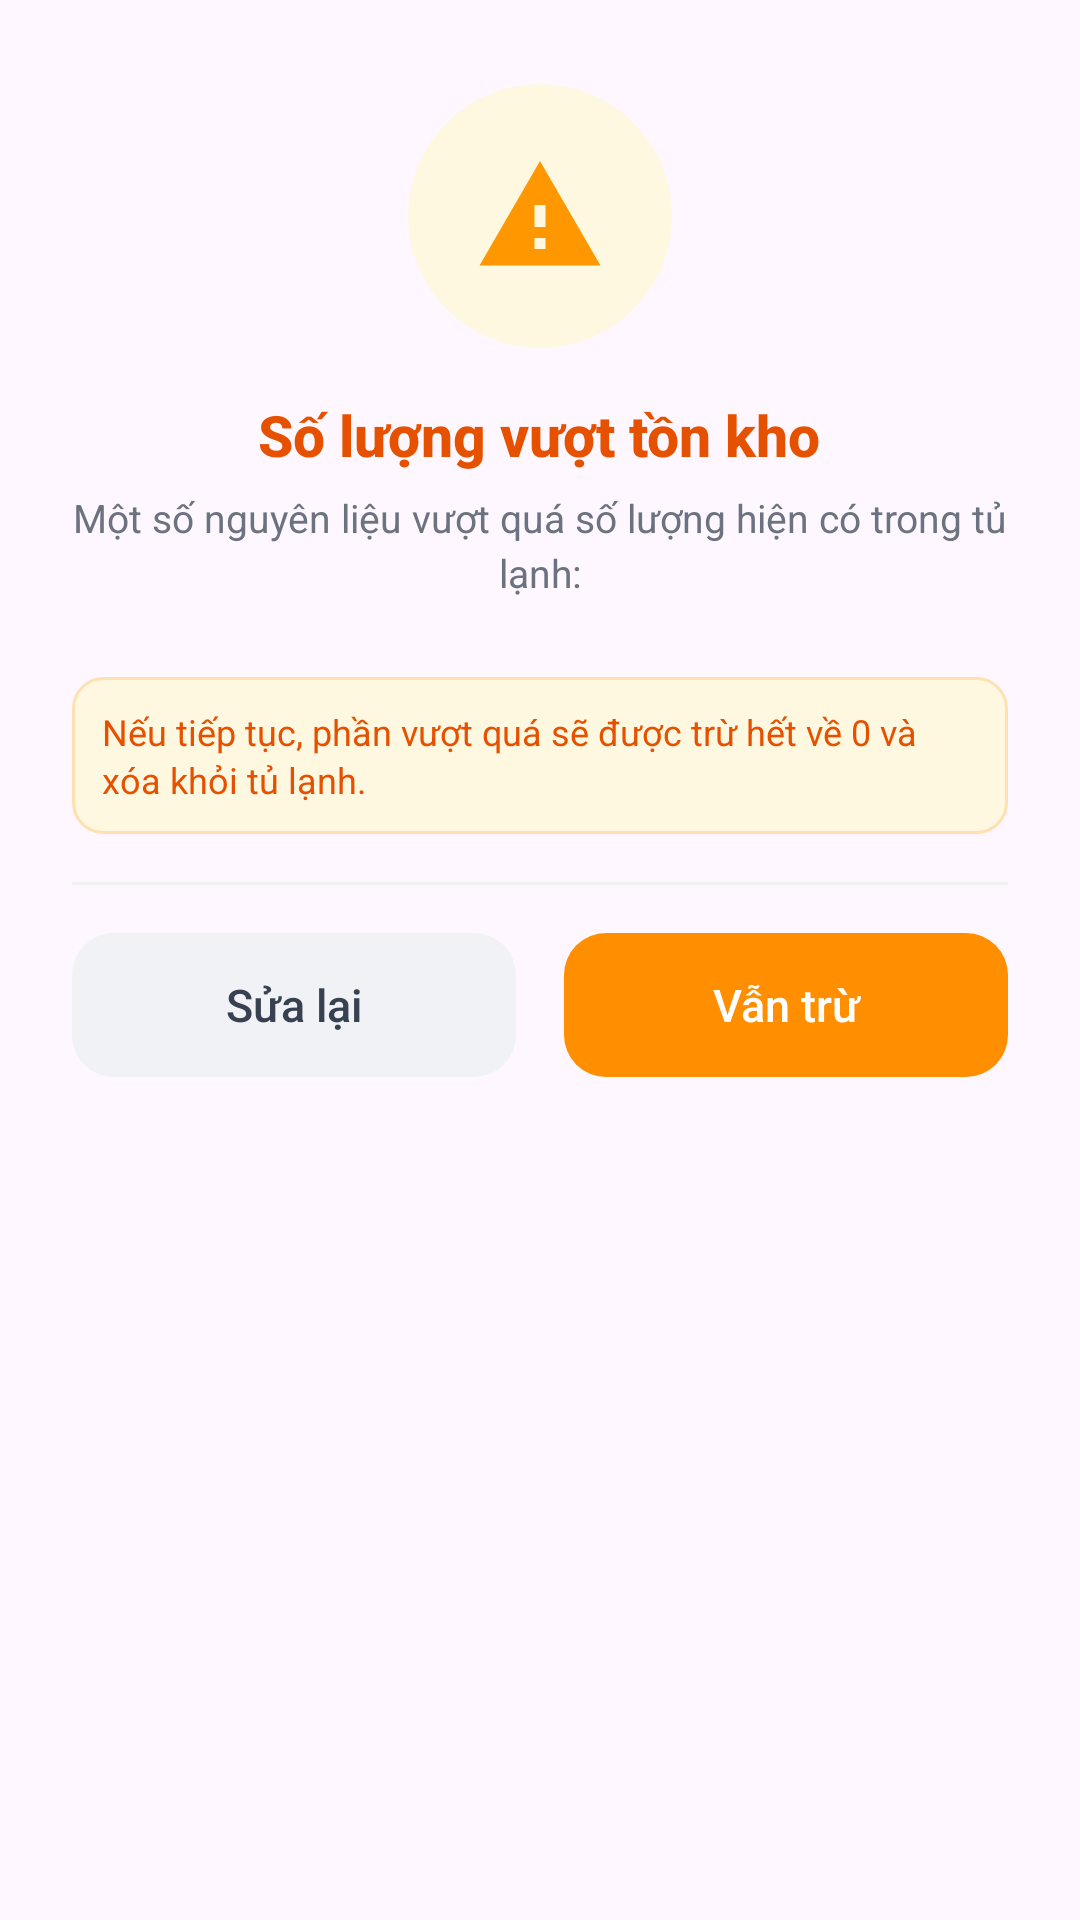

Icon click points for this 1080w x 1920h phone screenshot, format point (x, y):
toast alert: point (540, 213)
